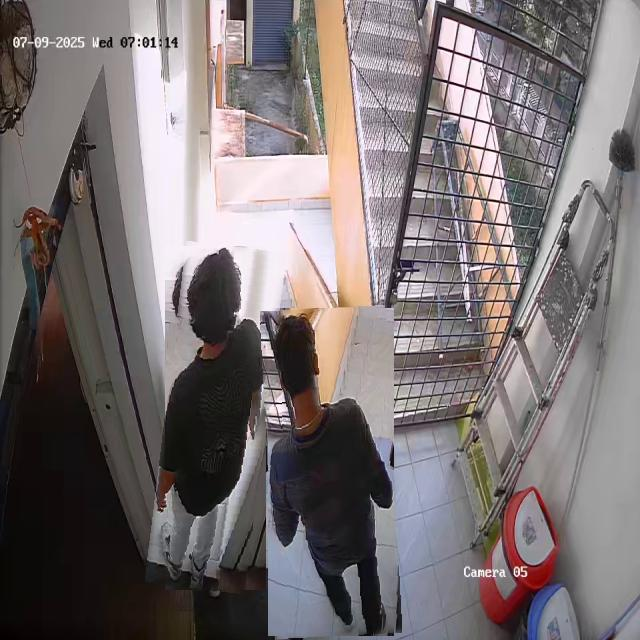person: (264, 307, 398, 638), (155, 244, 276, 592)
